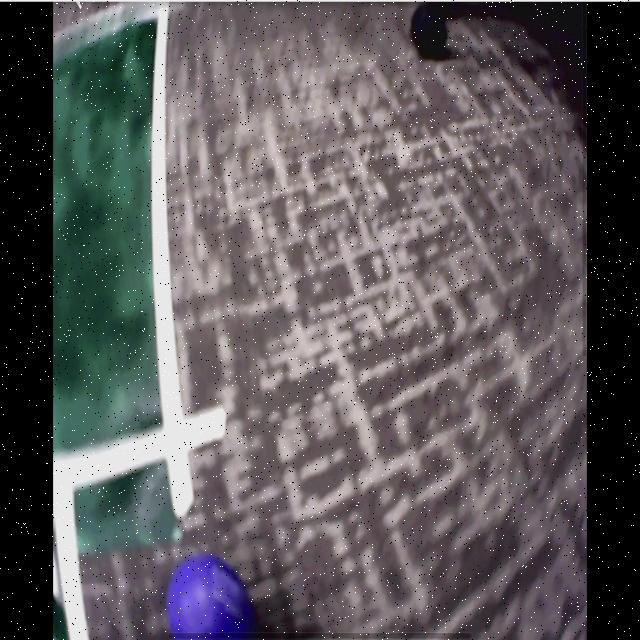ball: (169, 557, 251, 640)
